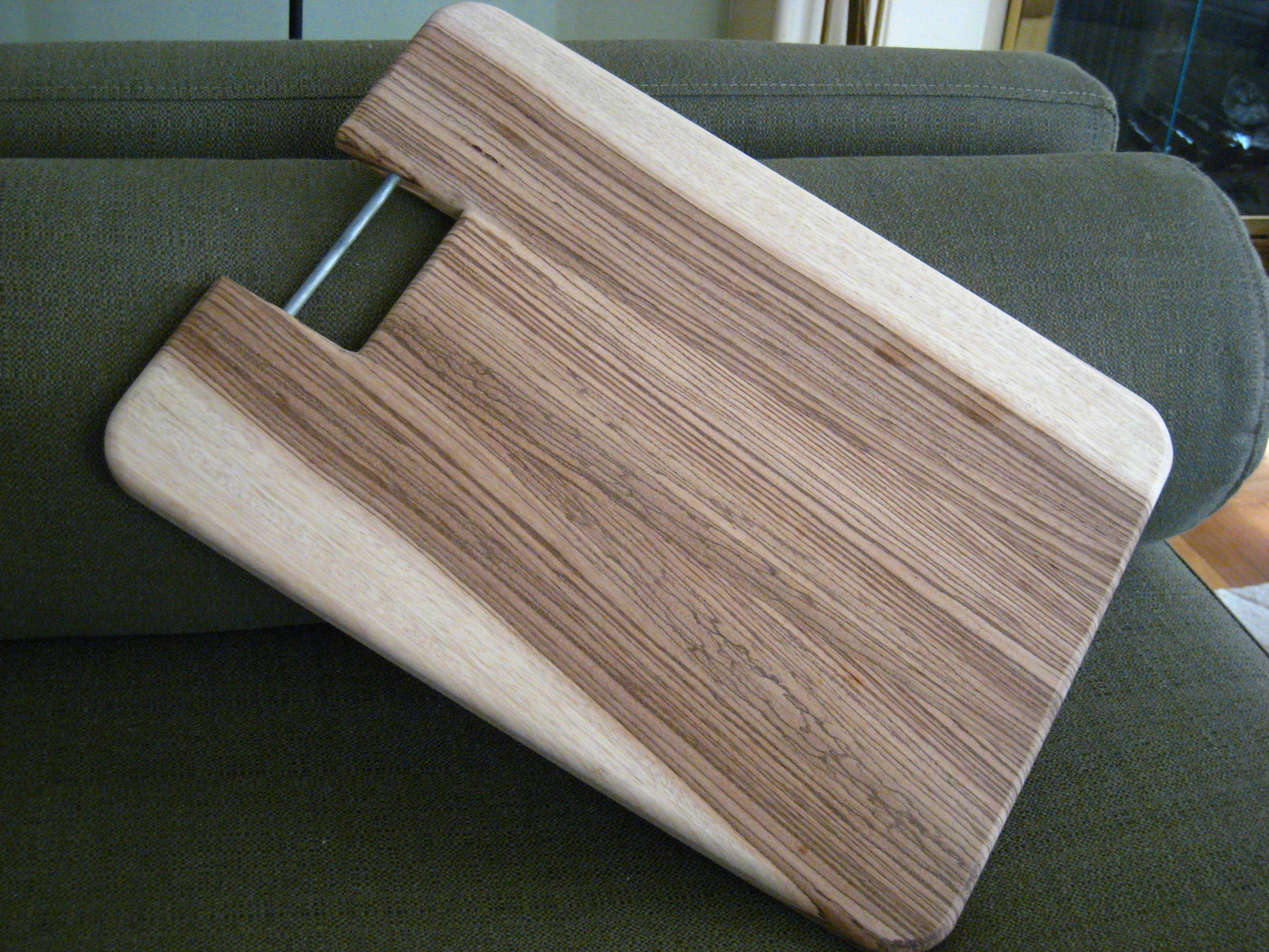gloved_hand: (85, 0, 1182, 952)
